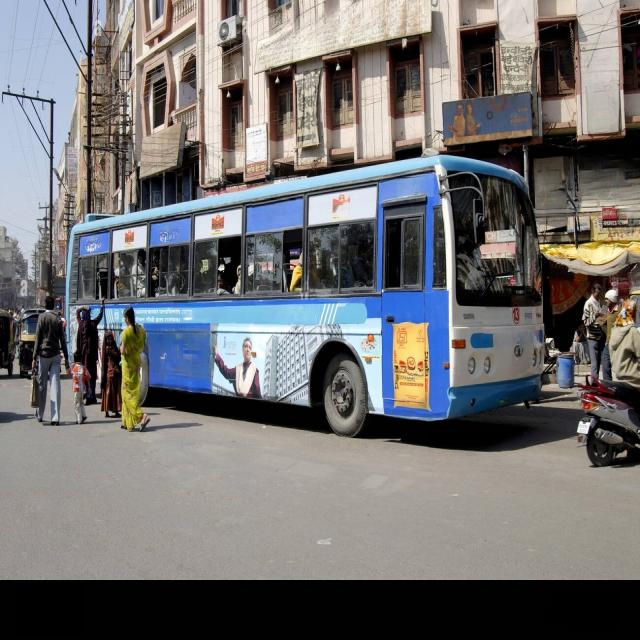bus: (66, 156, 545, 434)
motorcycle: (578, 300, 640, 466)
